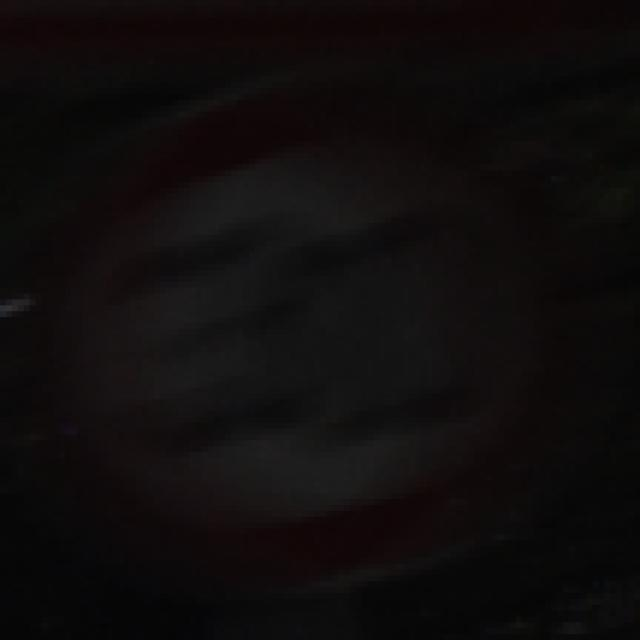Speed Limit -30-: (50, 56, 584, 584)
